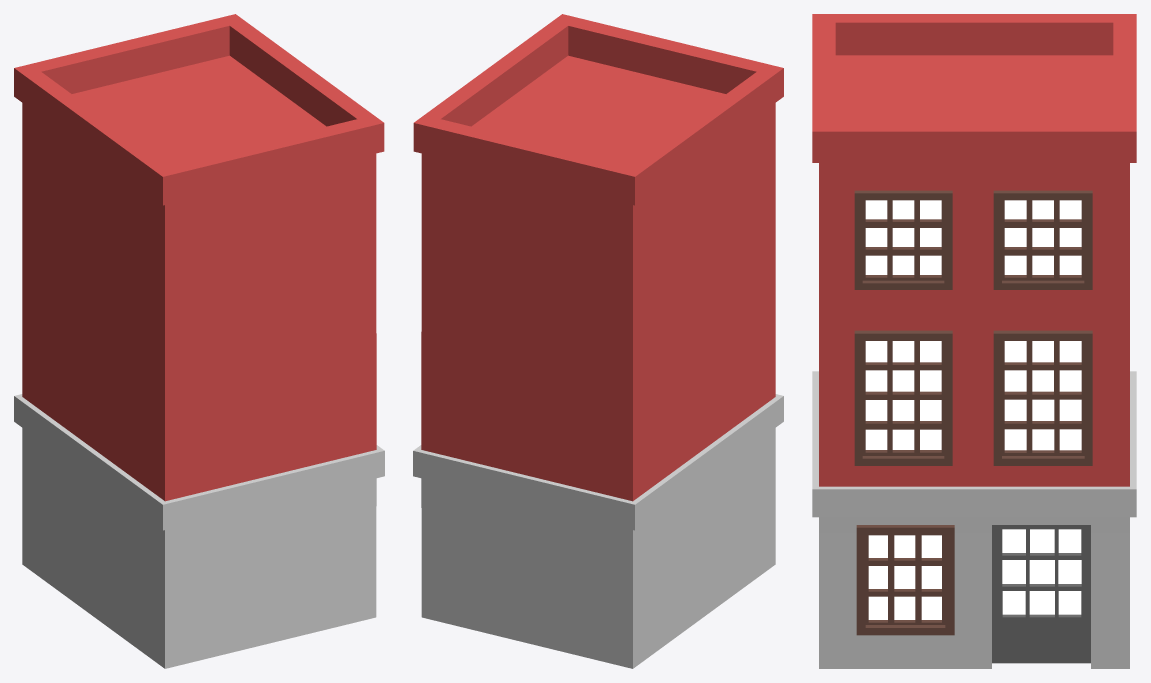
Rendered from House 4.4.fbx.
3 views of the same model, side by side, from view 1: azimuth 30°, elevation 25°; view 2: azimuth 150°, elevation 25°; view 3: azimuth 270°, elevation 25° (orthographic). The views are drawn at different scales.
Visible parts, largest first — view 1: House 4.005; view 2: House 4.005; view 3: House 4.005.
Boxes of the visible parts, x1,y1,x2,y2 form: House 4.005: [14, 14, 384, 668]; House 4.005: [413, 14, 783, 668]; House 4.005: [812, 14, 1136, 668].
Bounding box in the file's own units: 857 × 1829 × 995.
